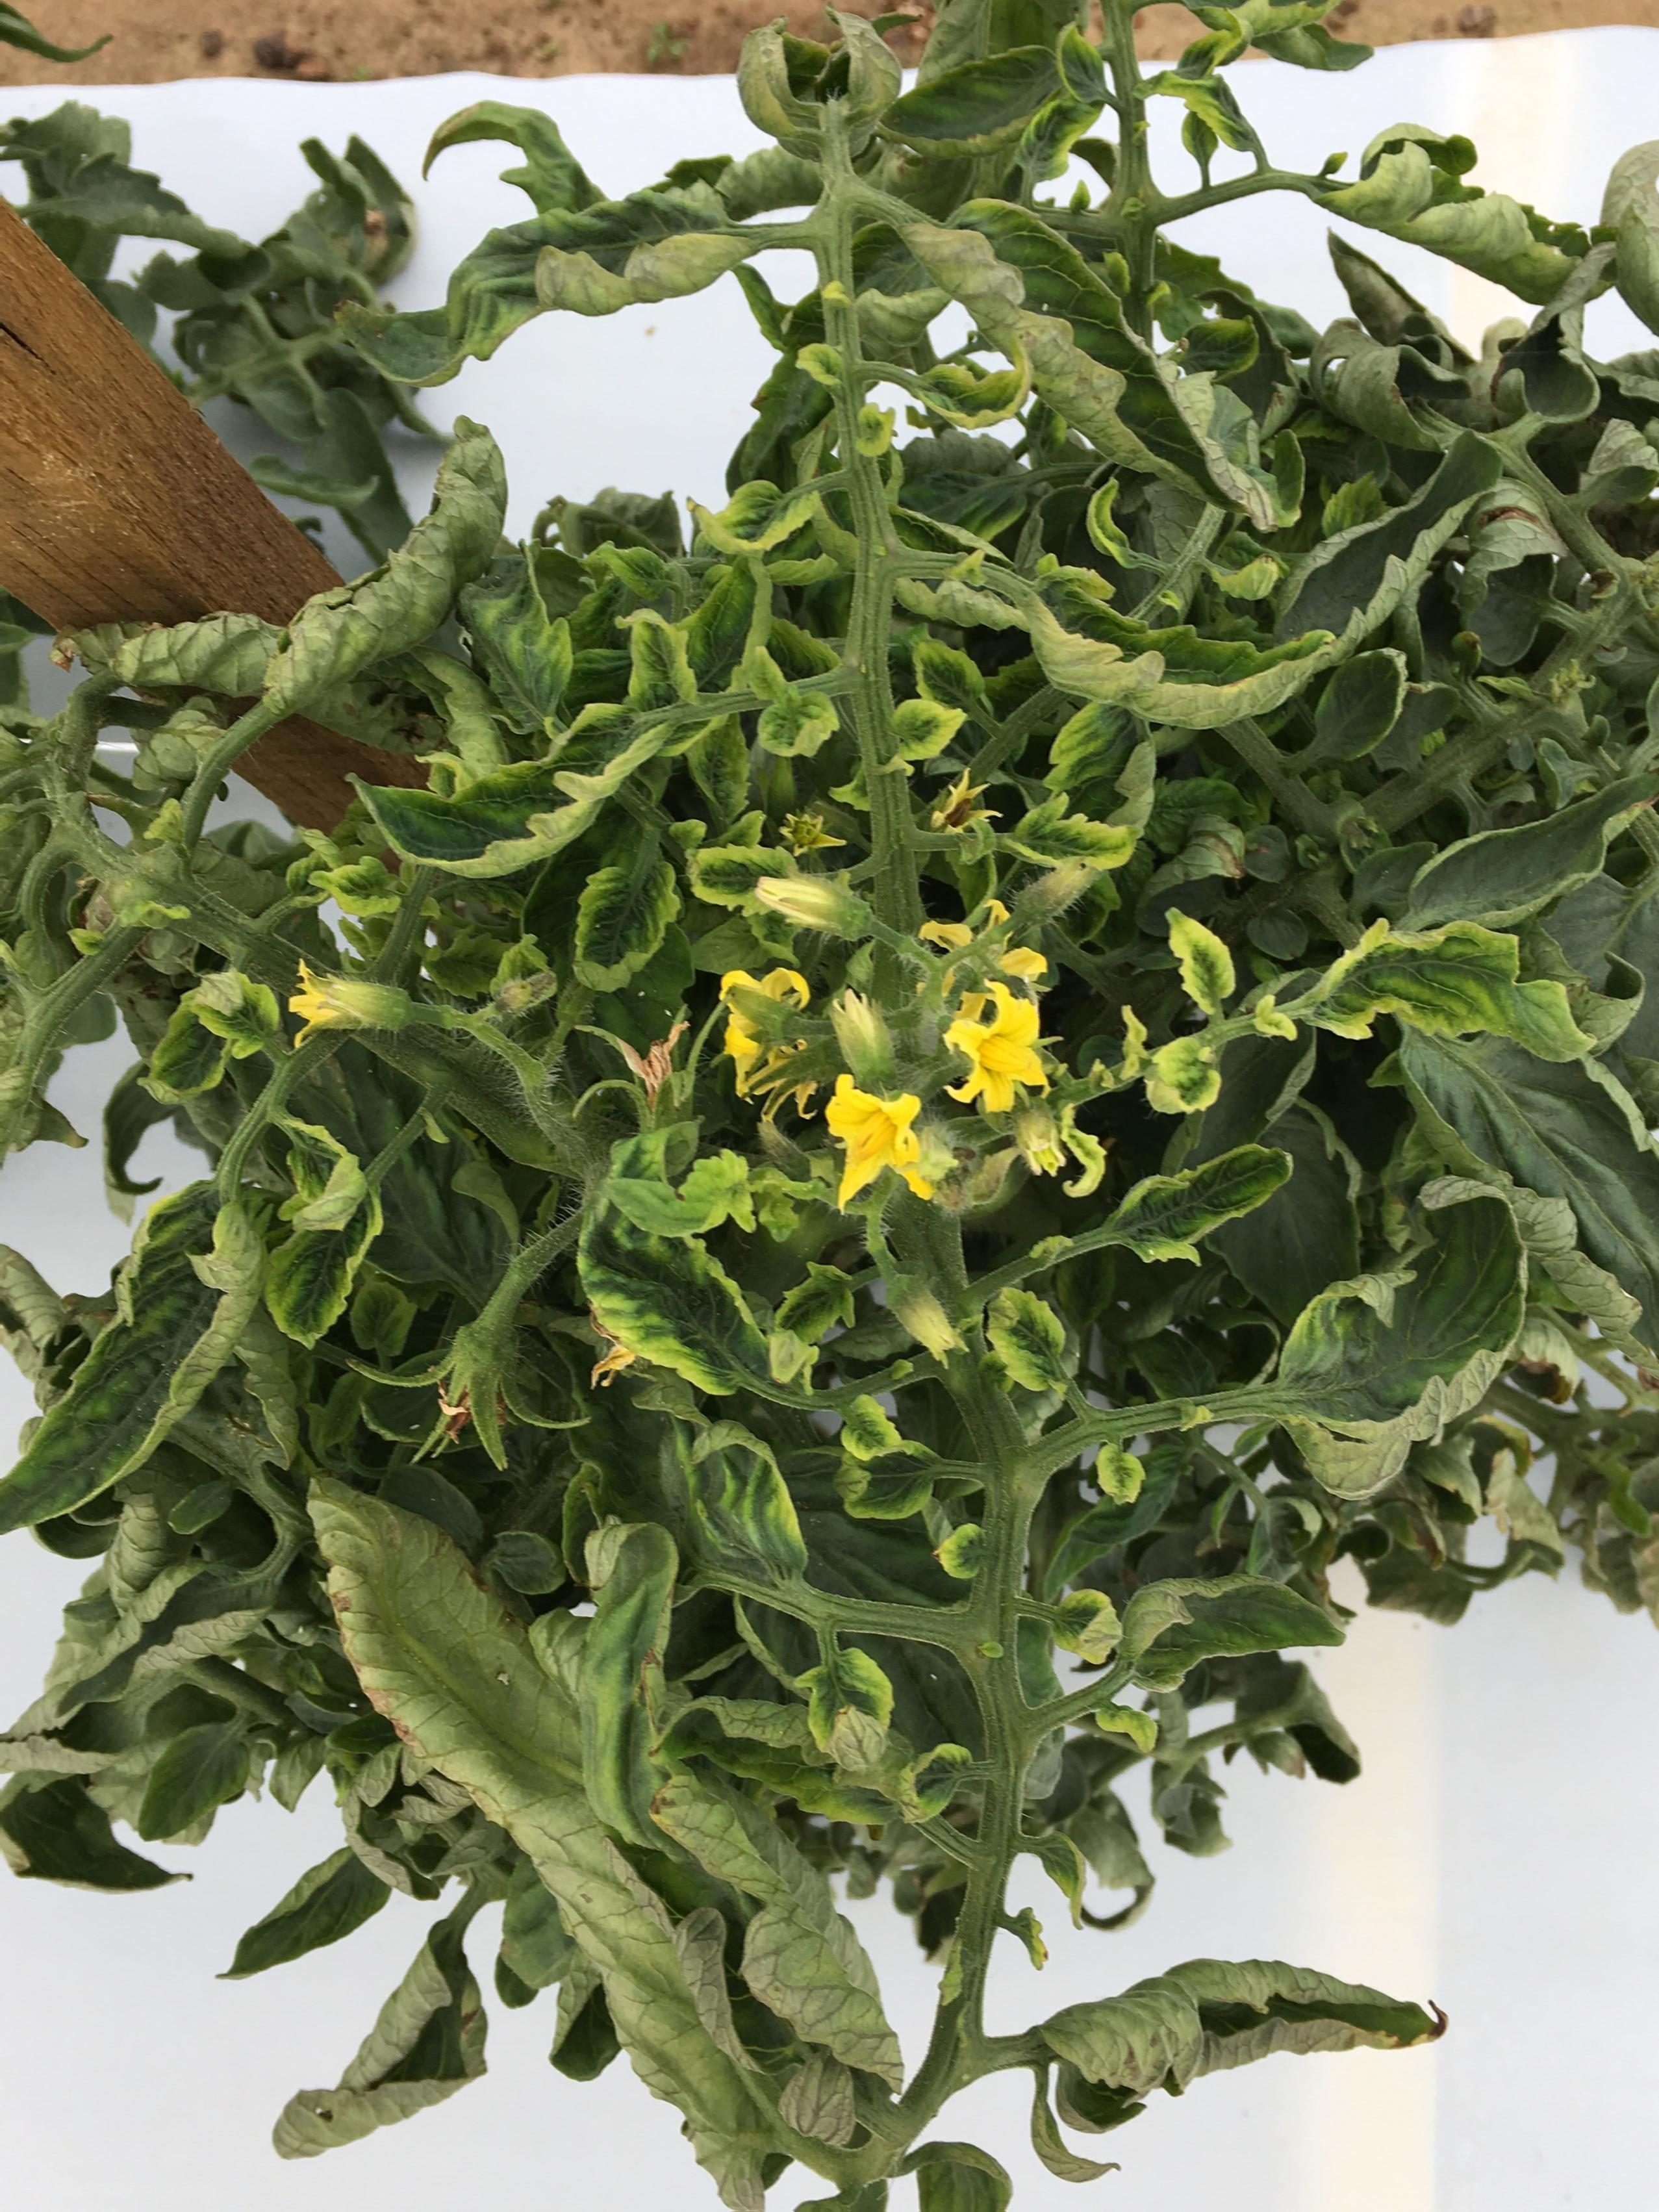Tomato leaf yellow virus: (1253, 1143, 1535, 1541), (920, 511, 1438, 723), (343, 610, 709, 898), (1272, 889, 1645, 1137), (549, 1116, 805, 1415), (566, 1342, 833, 1593), (228, 1112, 389, 1381), (544, 837, 690, 994)
